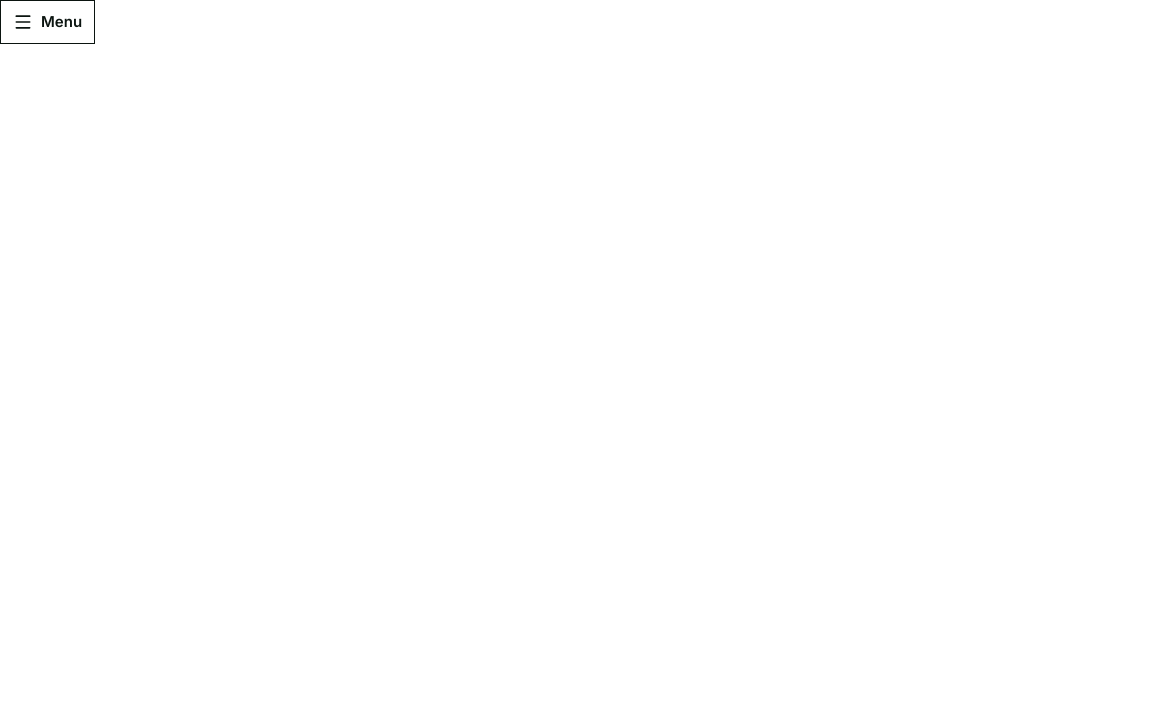
Test: MobileNavigation › se referme lorsqu’une rubrique est choisie
The image size is (1152, 720).
Click the button "Menu" at (48, 22), box x1=0 y1=0 x2=95 y2=44
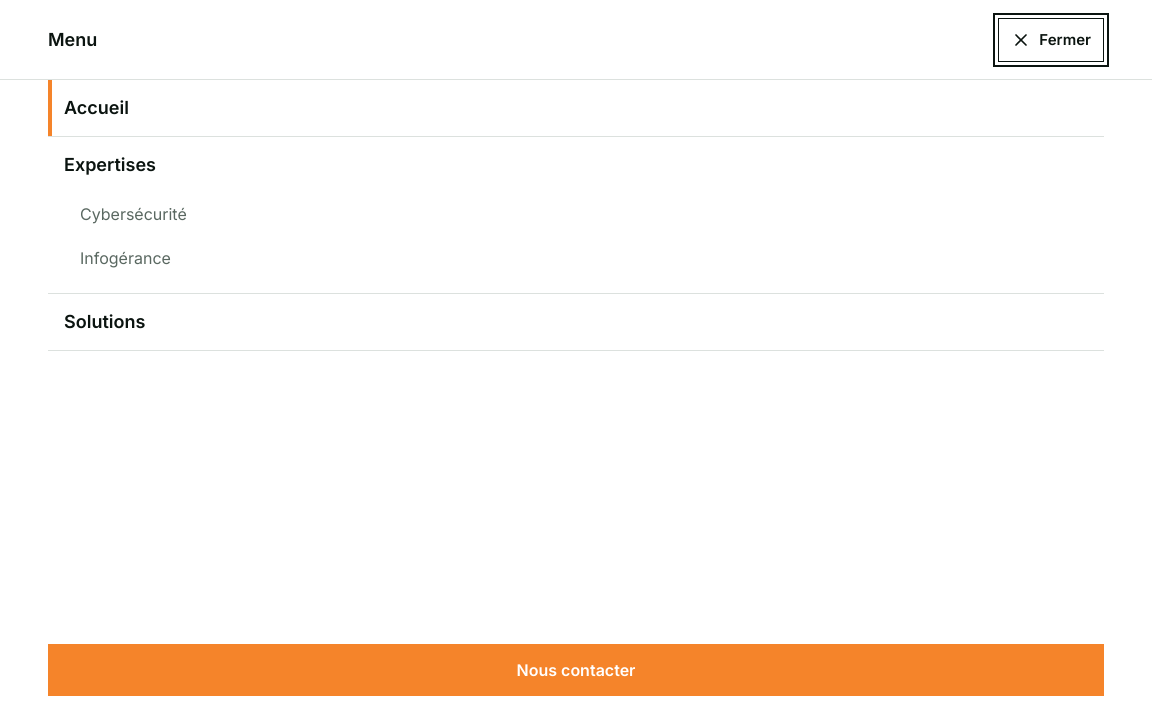
Click the link "Solutions" at (105, 322), box x1=64 y1=311 x2=145 y2=332
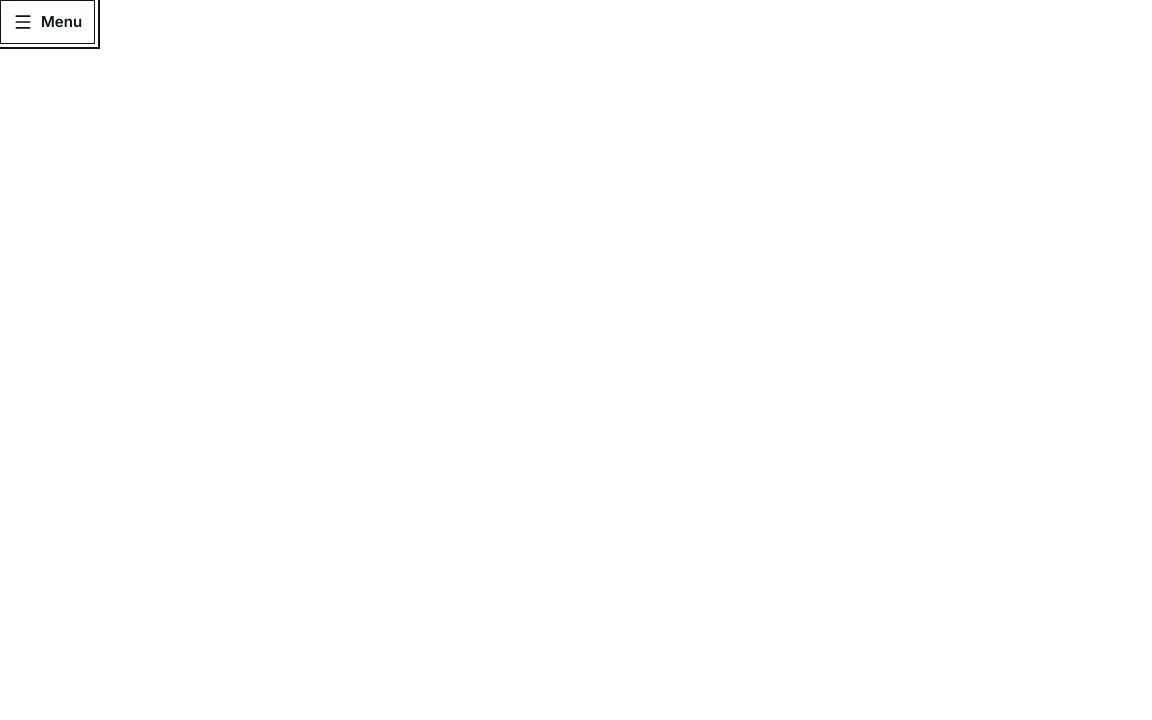
Now the dialog is gone
